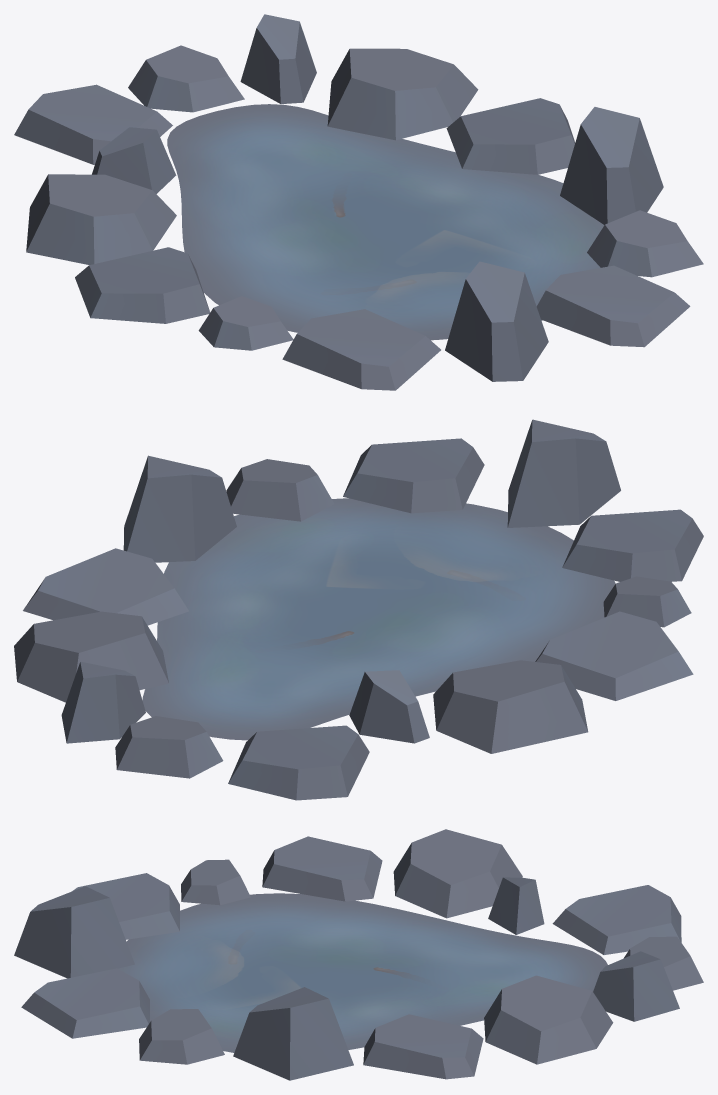
Rendered from fountain_2.fbx.
The picture shows the model from 3 angles, top to bottom: view 1: azimuth 30°, elevation 25°; view 2: azimuth 150°, elevation 25°; view 3: azimuth 270°, elevation 25°; orthographic projection. The views are drawn at different scales.
Visible parts, largest first — view 1: paddle, Circle.026, Circle.017, Circle.009, Circle.010, Circle.007, Circle.001, Circle.016, Circle.025, Circle.019, Circle.021, Circle.008 (+3 smaller); view 2: paddle, Circle.017, Circle.009, Circle.026, Circle.001, Circle.016, Circle.019, Circle.007, Circle.010, Circle.025, Circle.020, Circle.021 (+3 smaller); view 3: paddle, Circle.026, Circle.017, Circle.001, Circle.009, Circle.007, Circle.019, Circle.025, Circle.016, Circle.020, Circle.010, Circle.008 (+3 smaller).
Boxes of the visible parts, left/top/right/bottom form: paddle: left=167, top=104, right=604, bottom=340; Circle.026: left=327, top=48, right=478, bottom=140; Circle.017: left=26, top=174, right=176, bottom=264; Circle.009: left=445, top=261, right=548, bottom=381; Circle.010: left=282, top=309, right=440, bottom=390; Circle.007: left=536, top=265, right=690, bottom=347; Circle.001: left=560, top=107, right=663, bottom=224; Circle.016: left=75, top=247, right=209, bottom=323; Circle.025: left=446, top=98, right=574, bottom=174; Circle.019: left=14, top=84, right=172, bottom=164; Circle.021: left=128, top=45, right=244, bottom=112; Circle.008: left=587, top=210, right=703, bottom=277; paddle: left=142, top=498, right=615, bottom=740; Circle.017: left=433, top=660, right=588, bottom=753; Circle.009: left=507, top=419, right=620, bottom=527; Circle.026: left=14, top=611, right=168, bottom=702; Circle.001: left=123, top=455, right=236, bottom=562; Circle.016: left=535, top=611, right=693, bottom=700; Circle.019: left=228, top=725, right=369, bottom=800; Circle.007: left=343, top=438, right=484, bottom=513; Circle.010: left=562, top=509, right=703, bottom=581; Circle.025: left=23, top=548, right=188, bottom=625; Circle.020: left=61, top=661, right=145, bottom=743; Circle.021: left=115, top=716, right=223, bottom=778; paddle: left=118, top=893, right=607, bottom=1052; Circle.026: left=484, top=975, right=613, bottom=1064; Circle.017: left=393, top=829, right=522, bottom=918; Circle.001: left=233, top=987, right=353, bottom=1080; Circle.009: left=14, top=886, right=134, bottom=978; Circle.007: left=21, top=968, right=149, bottom=1038; Circle.019: left=552, top=885, right=681, bottom=954; Circle.025: left=363, top=1014, right=483, bottom=1079; Circle.016: left=262, top=836, right=382, bottom=901; Circle.020: left=593, top=951, right=679, bottom=1021; Circle.010: left=73, top=873, right=179, bottom=939; Circle.008: left=139, top=1009, right=224, bottom=1064.
Size of the model in its own units: 2.35 by 0.2979 by 2.95.
